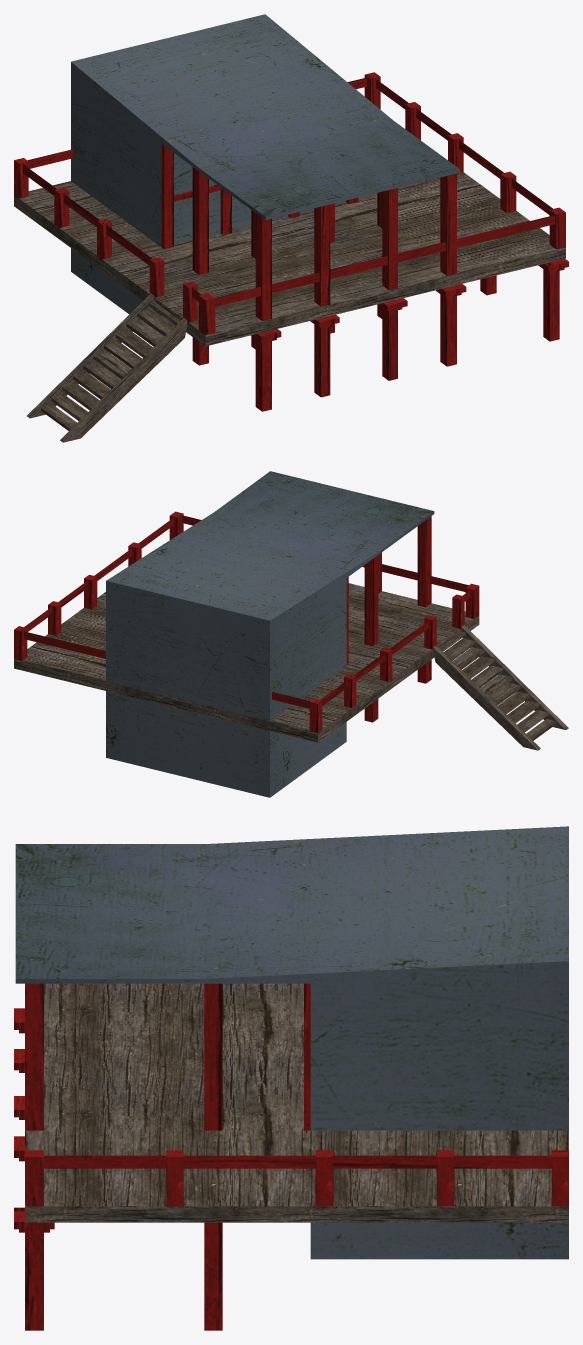
Rendered from House01WalkJumpHighJump.fbx.
3 views of the same model, one above another, from view 1: azimuth 30°, elevation 25°; view 2: azimuth 150°, elevation 25°; view 3: azimuth 270°, elevation 25° (orthographic). The views are drawn at different scales.
Visible parts, largest first — view 1: Cube_025, Cube_016, Plane_005; view 2: Cube_025, Cube_016, Plane_005; view 3: Cube_025, Plane_005.
Boxes of the visible parts, x1,y1,x2,y2 form: Cube_025: (14,14,568,411); Cube_016: (27,293,187,442); Plane_005: (23,77,554,306); Cube_025: (14,471,479,797); Cube_016: (433,625,568,750); Plane_005: (24,515,470,708); Cube_025: (14,826,568,1330); Plane_005: (44,1155,551,1168).
Size of the model in its own units: 15.51 by 6.42 by 10.83.
